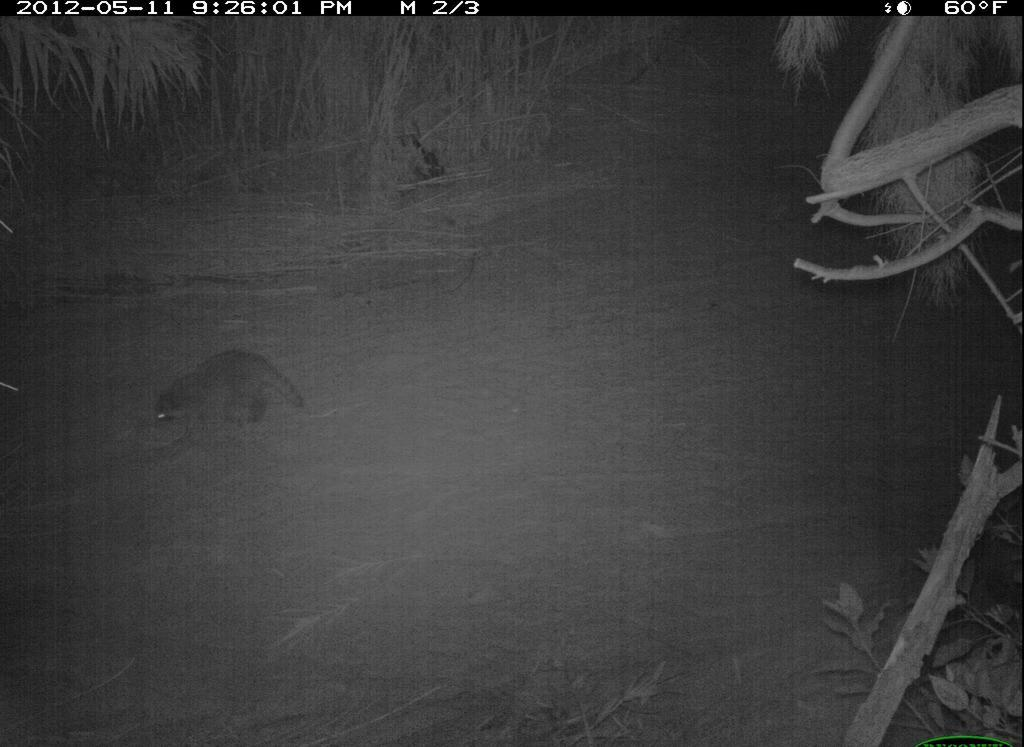raccoon: (140, 340, 312, 451)
